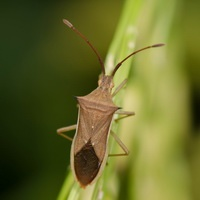insect: (57, 19, 163, 187)
